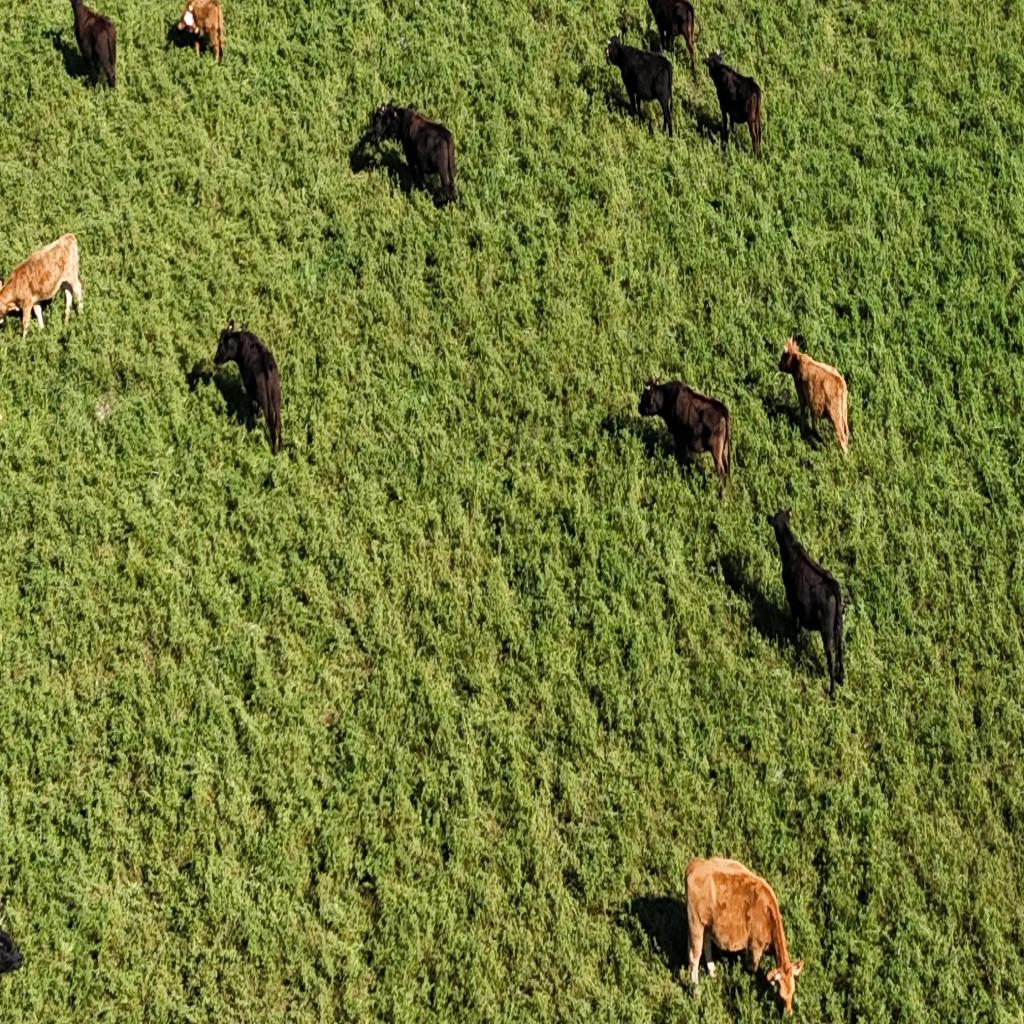cow: (679, 853, 801, 1014), (1, 234, 87, 417), (770, 508, 848, 699), (358, 96, 462, 207), (639, 377, 732, 496), (208, 316, 285, 456), (779, 334, 851, 457), (602, 38, 674, 137), (705, 50, 763, 157), (69, 0, 119, 89), (643, 2, 699, 78), (176, 1, 225, 62)
